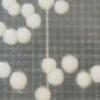white: (7, 71, 28, 90), (61, 54, 78, 74), (75, 71, 92, 89), (47, 68, 64, 86), (16, 26, 32, 45), (54, 0, 71, 17), (25, 13, 41, 29), (3, 29, 18, 45), (34, 85, 50, 100), (41, 58, 56, 74), (89, 64, 100, 85), (0, 61, 11, 80), (21, 4, 35, 18), (38, 0, 55, 11), (8, 3, 20, 16), (2, 0, 16, 10), (0, 21, 7, 40)
